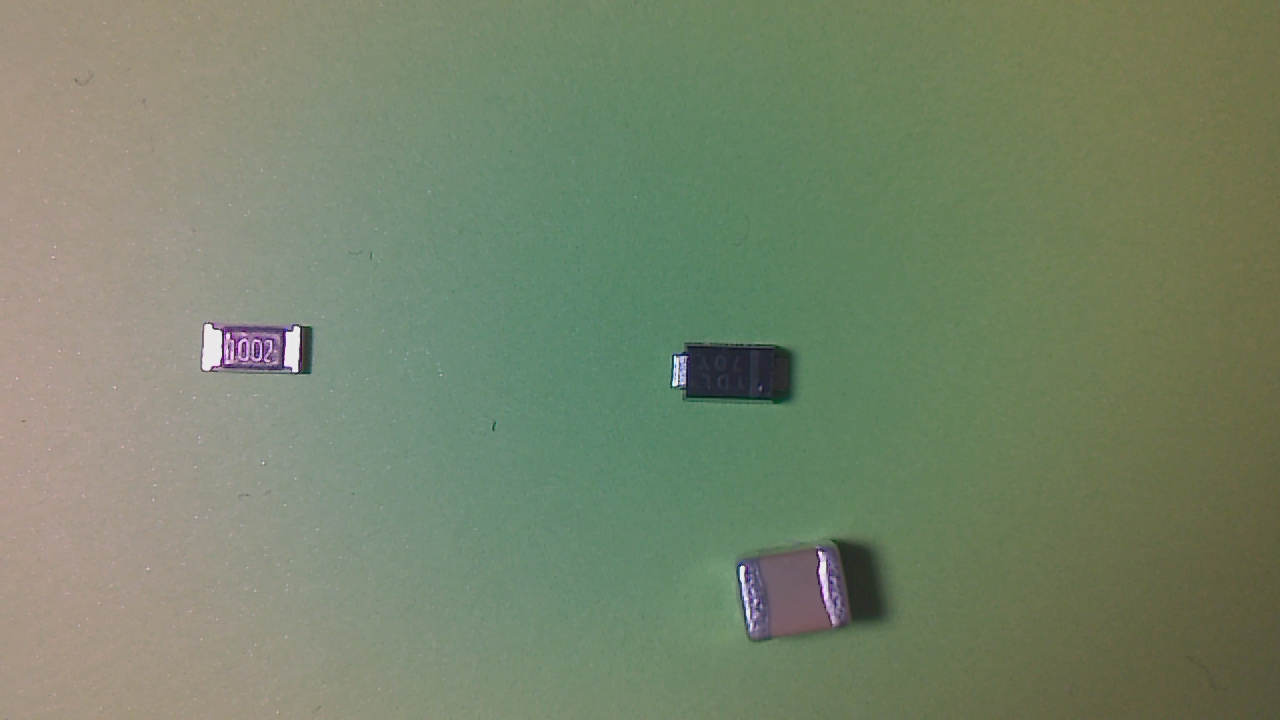Condensator: (739, 546, 863, 646)
Diode: (677, 345, 798, 409)
Resistor: (204, 327, 317, 382)
